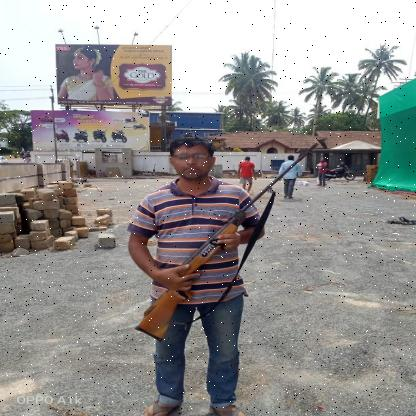rifle: (133, 141, 320, 344)
